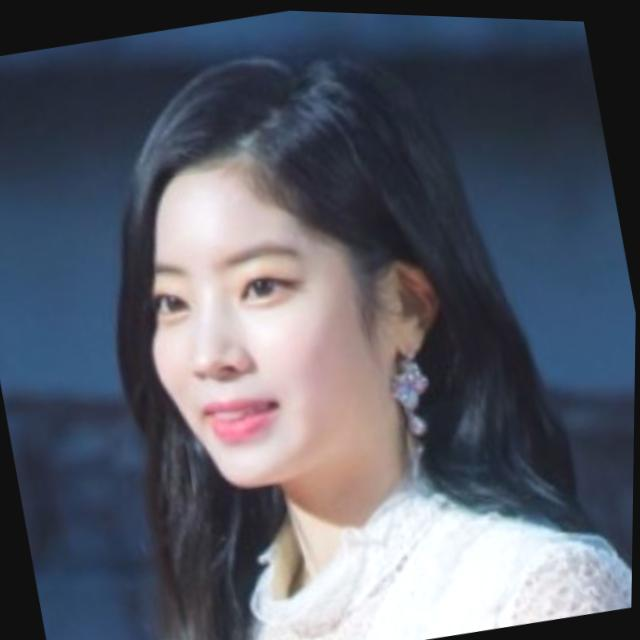face: (80, 53, 458, 542)
